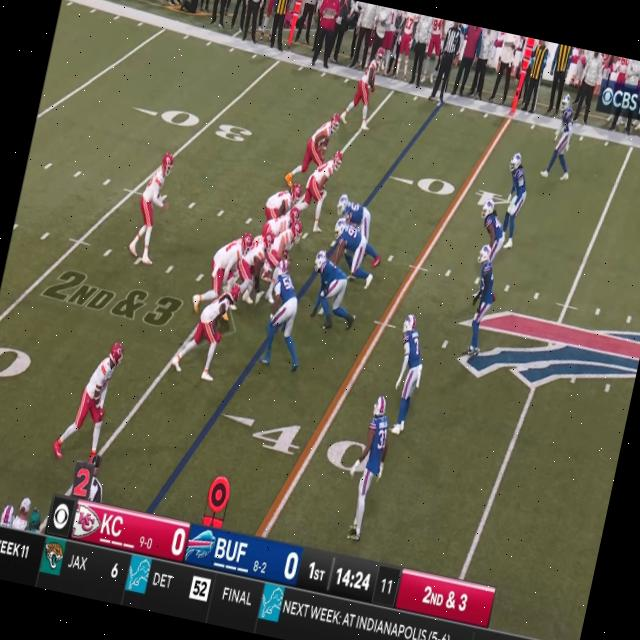Player: (64, 336, 126, 460), (345, 394, 396, 540), (185, 276, 242, 384), (382, 311, 433, 431), (257, 260, 309, 368), (127, 148, 175, 265), (457, 244, 502, 356), (492, 152, 533, 250), (302, 250, 352, 330), (300, 145, 342, 233), (544, 92, 582, 182), (206, 224, 252, 297), (348, 44, 384, 130), (238, 228, 274, 302), (326, 218, 372, 274), (302, 106, 341, 161), (474, 200, 511, 252), (268, 218, 303, 272), (332, 192, 376, 230), (262, 202, 297, 242), (266, 177, 302, 210)
Referee: (428, 20, 461, 104)
